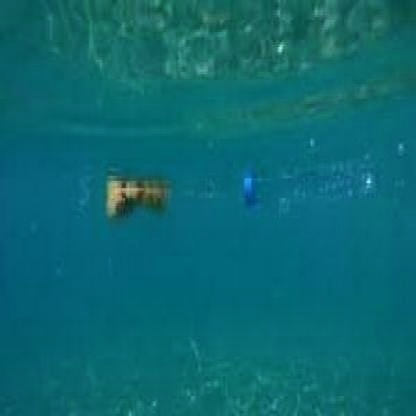pbottle: (229, 156, 381, 218)
